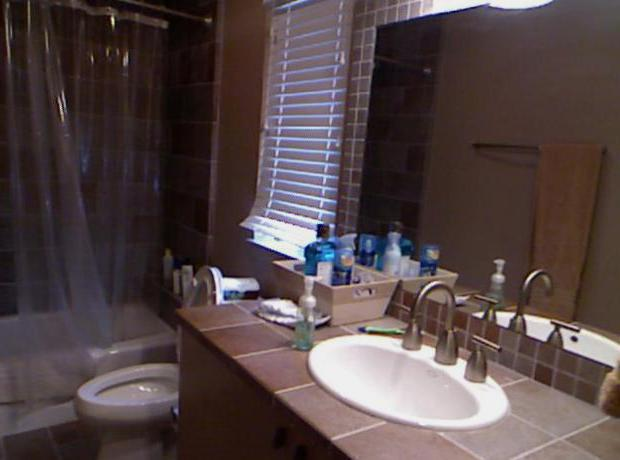Lavamanos: (301, 277, 507, 441)
Sanitario: (73, 264, 245, 456)
